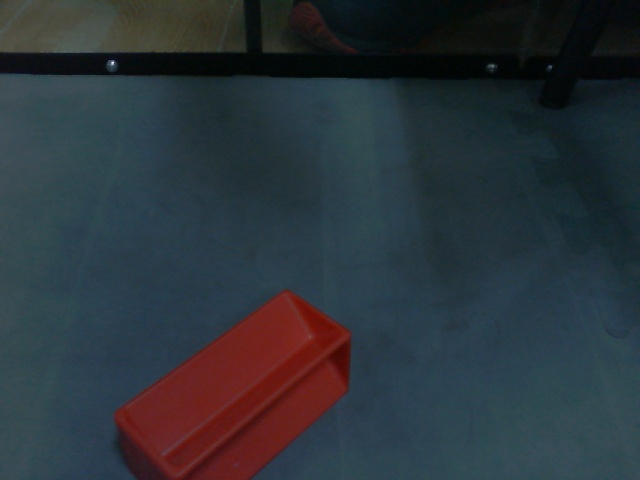RedSample: (111, 287, 354, 480)
